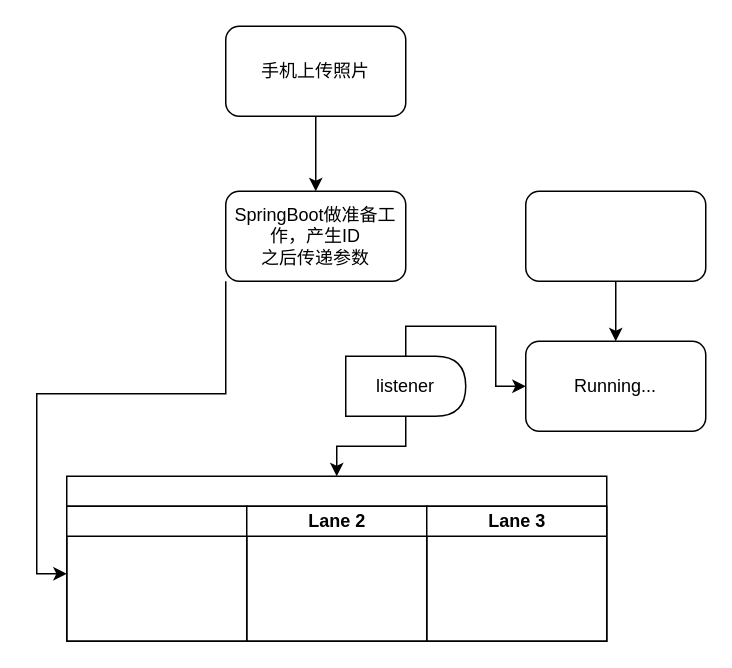
This 732x668 diagram has some shape labels left out. Each missing label, with the box of its shape:
Lane 1: (65, 505, 247, 641)
Pool: (65, 475, 607, 641)
python初始化 消息服务: (524, 190, 706, 281)
